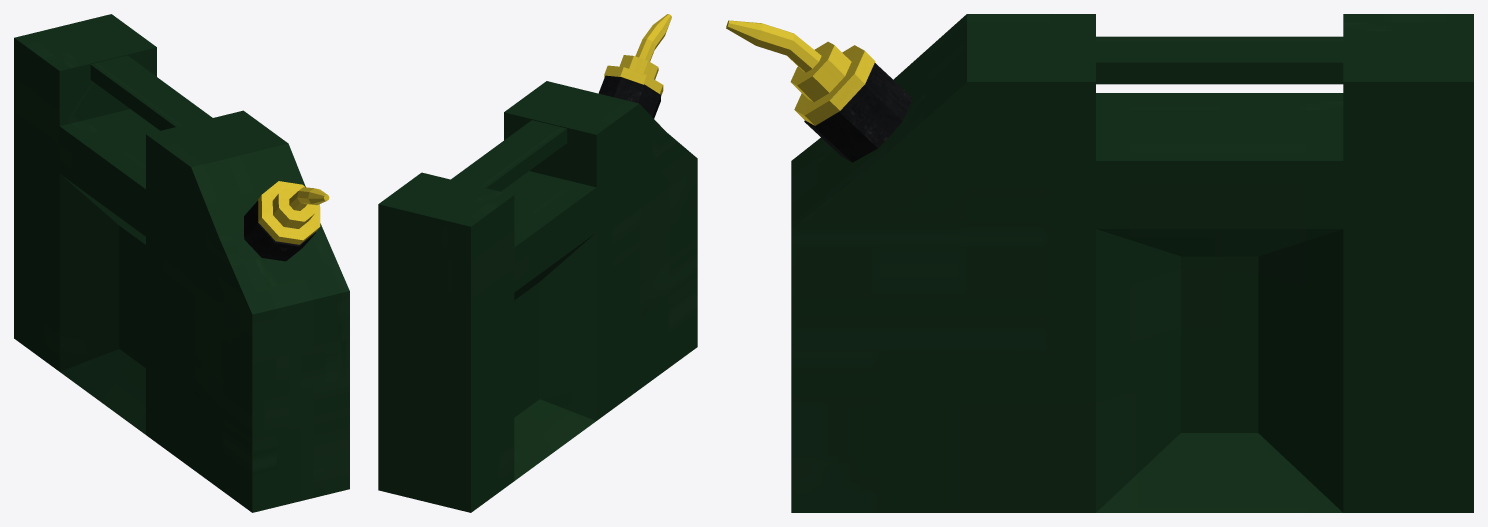
The model's file is fuel.fbx.
3 renders of one model, left to right at view 1: azimuth 30°, elevation 25°; view 2: azimuth 150°, elevation 25°; view 3: azimuth 270°, elevation 25°, orthographic. The views are drawn at different scales.
Visible parts, largest first — view 1: Cube, Cylinder.001, Cylinder; view 2: Cube, Cylinder.001, Cylinder; view 3: Cube, Cylinder.001, Cylinder.
Part boxes in pixels (x1,y1,x2,y2): Cube: [14, 14, 349, 512]; Cylinder.001: [258, 181, 329, 244]; Cylinder: [244, 200, 315, 261]; Cube: [378, 81, 697, 512]; Cylinder.001: [604, 14, 671, 96]; Cylinder: [598, 75, 660, 118]; Cube: [791, 14, 1473, 512]; Cylinder.001: [726, 20, 875, 125]; Cylinder: [804, 63, 912, 162].
Size of the model in its own units: 15.42 by 48.62 by 71.55.
3 materials, 3 textured.
